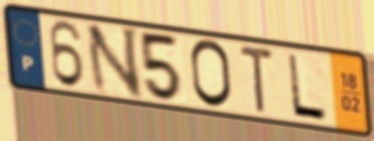5: (138, 29, 185, 104)
6: (47, 18, 87, 90)
L: (285, 51, 330, 124)
N: (83, 23, 145, 102)
O: (188, 37, 235, 111)
T: (237, 42, 277, 116)
